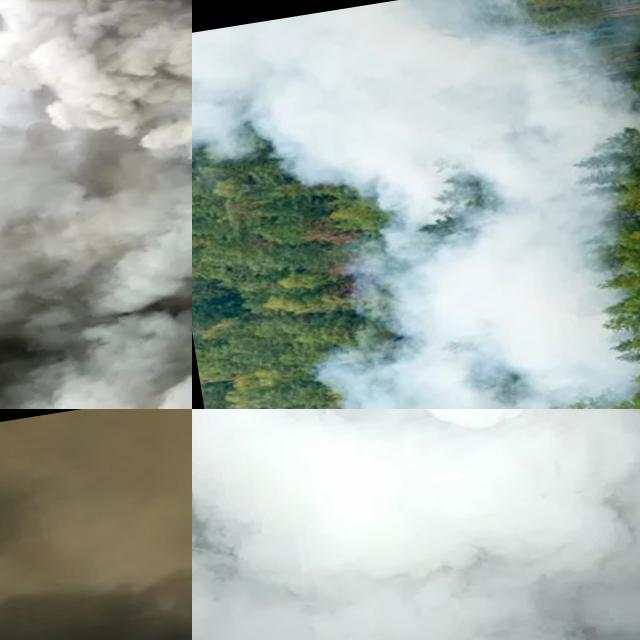smoke: (192, 409, 640, 640), (192, 0, 640, 230), (291, 165, 640, 409), (0, 0, 192, 409), (0, 409, 192, 640)
